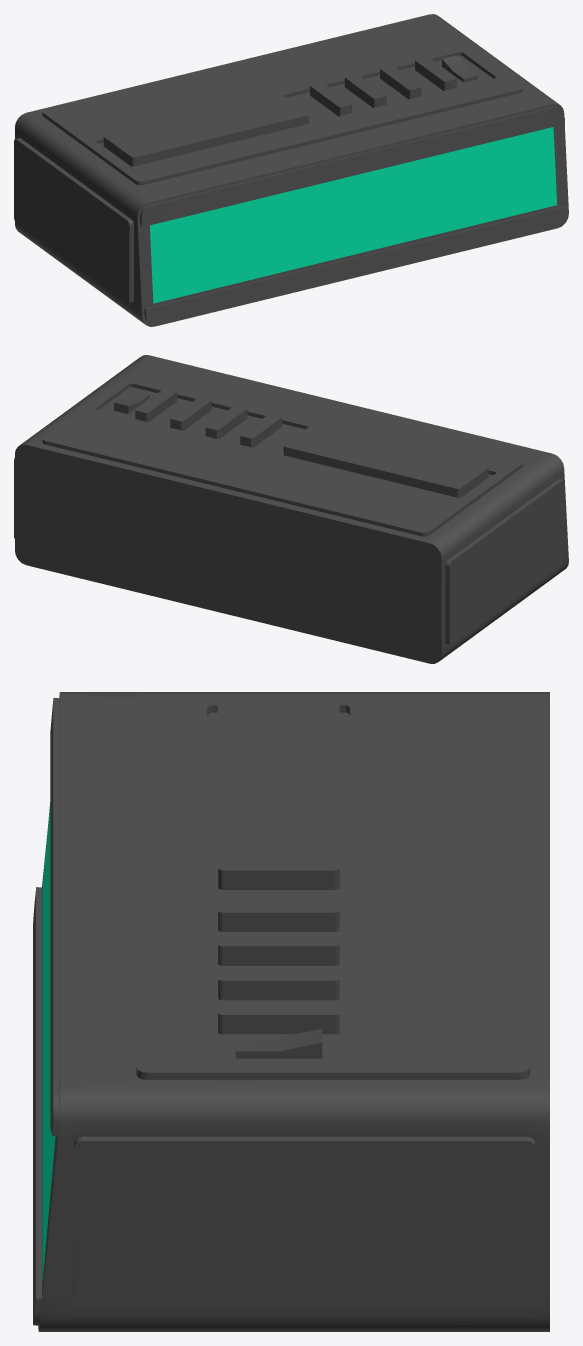
Rendered from Digital_Clock.fbx.
The picture shows the model from 3 angles, top to bottom: view 1: azimuth 30°, elevation 25°; view 2: azimuth 150°, elevation 25°; view 3: azimuth 270°, elevation 25°; orthographic projection. The views are drawn at different scales.
Visible parts, largest first — view 1: pCube60; view 2: pCube60; view 3: pCube60.
Part boxes in pixels (left/top/right/bottom): pCube60: left=14, top=14, right=568, bottom=326; pCube60: left=14, top=355, right=568, bottom=663; pCube60: left=33, top=692, right=549, bottom=1331.
Bounding box in the file's own units: 49.79 × 14.22 × 25.6.
